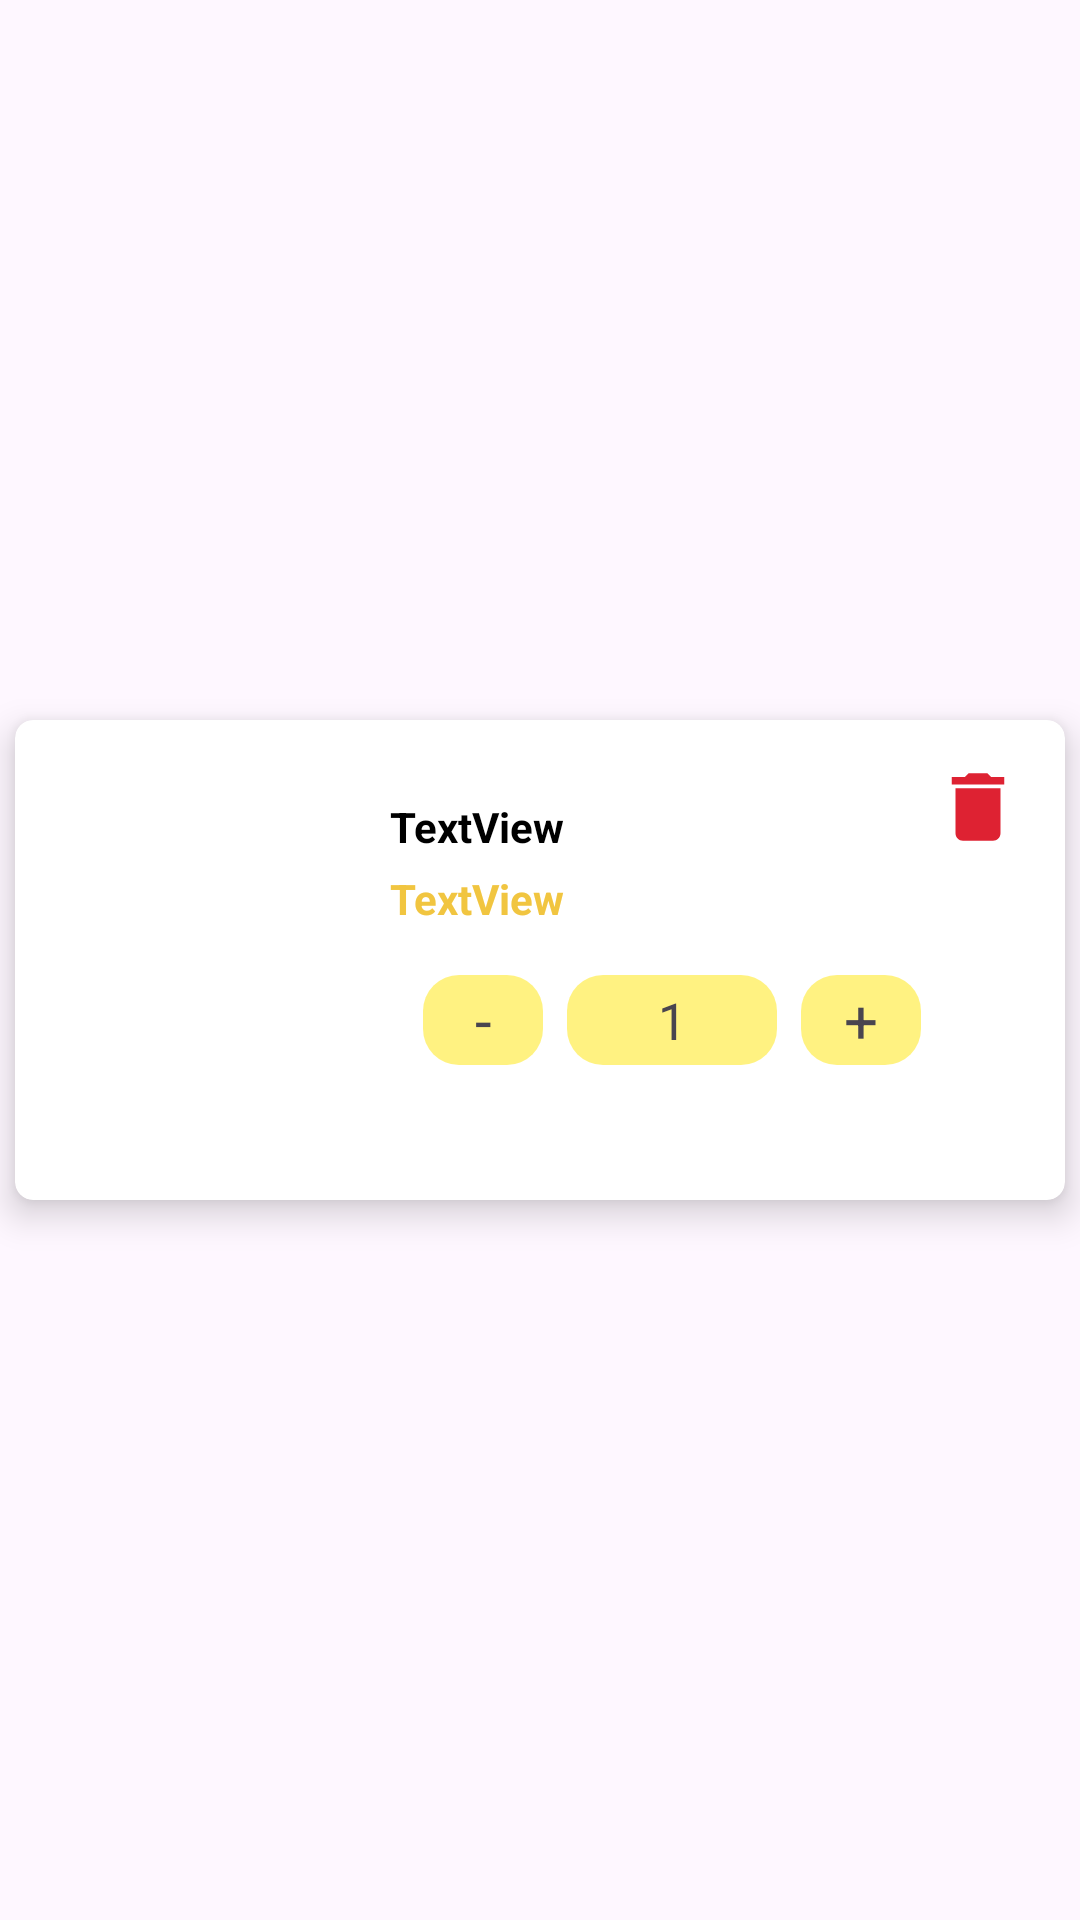

Screen size 1080w x 1920h. Icon name, then its center in pixels as [x,y]:
id delete: [978,807]
